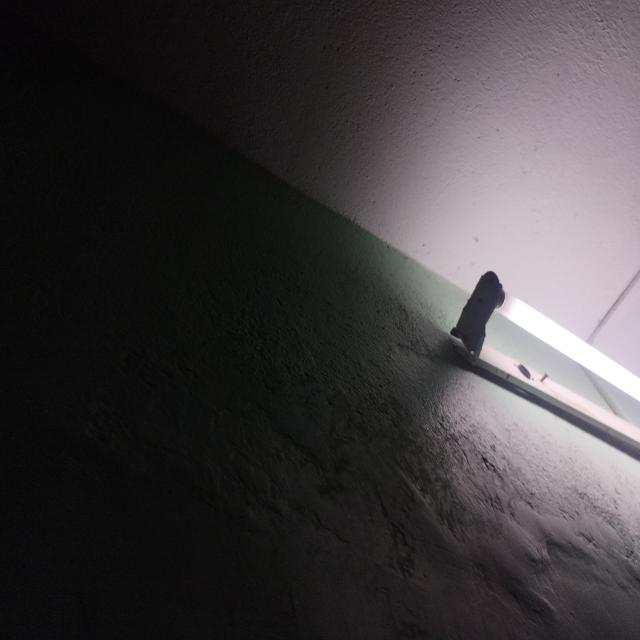tubelight_on: (446, 267, 640, 451)
